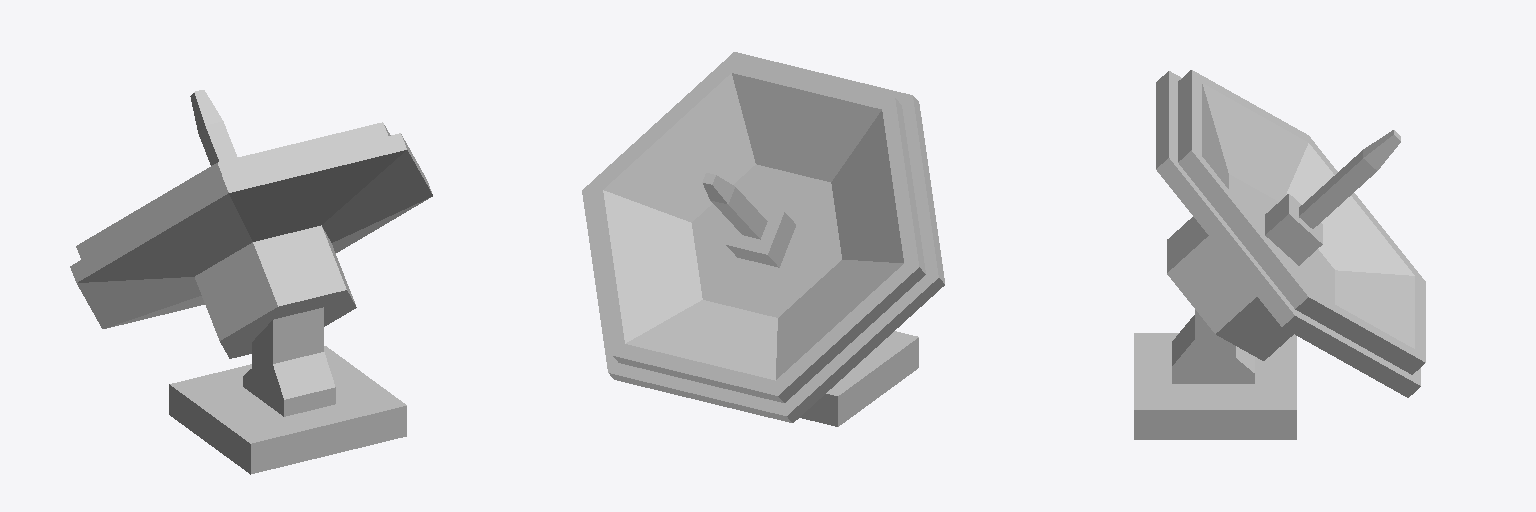
File: satelliteDishAntenna.obj
3 renders of one model, left to right at view 1: azimuth 30°, elevation 25°; view 2: azimuth 150°, elevation 25°; view 3: azimuth 270°, elevation 25°, orthographic.
Visible parts, largest first — view 1: satelliteDishAntenna; view 2: satelliteDishAntenna; view 3: satelliteDishAntenna.
Part boxes in pixels (bbox=[...]): satelliteDishAntenna: bbox=[70, 90, 432, 474]; satelliteDishAntenna: bbox=[582, 52, 944, 426]; satelliteDishAntenna: bbox=[1134, 70, 1425, 439].
Size of the model in its own units: 8.58 by 6.71 by 6.08.